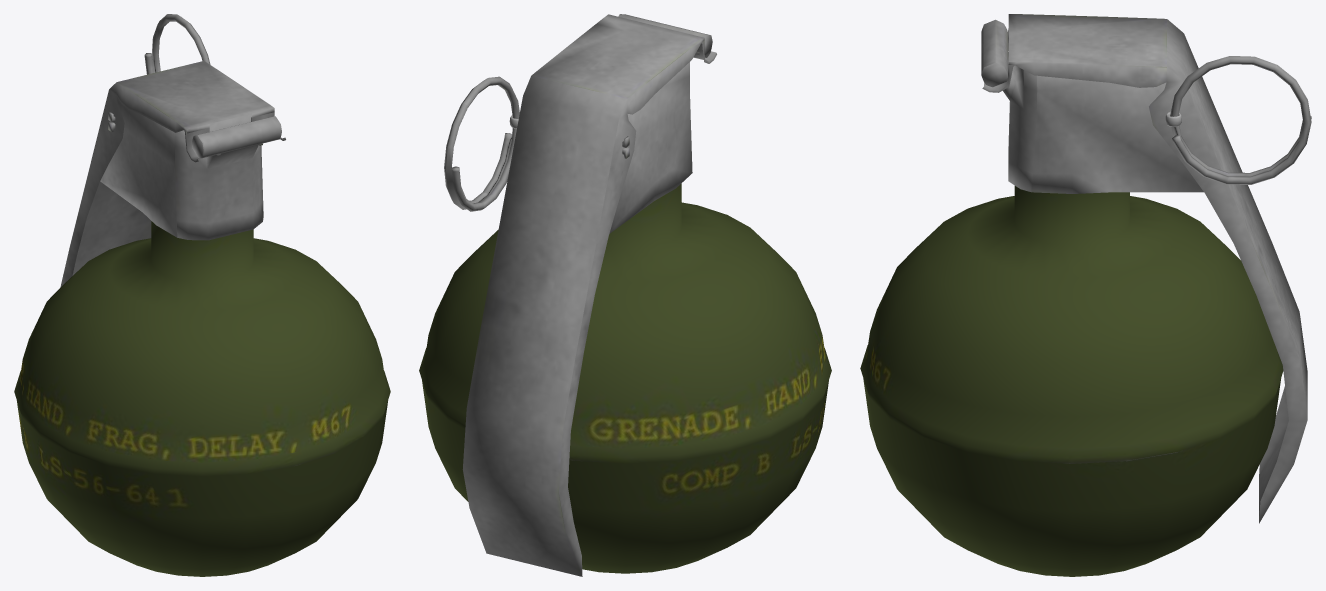
Rendered from Grenade_M67.fbx.
The picture shows the model from 3 angles, left to right: view 1: azimuth 30°, elevation 25°; view 2: azimuth 150°, elevation 25°; view 3: azimuth 270°, elevation 25°; orthographic projection. The views are drawn at different scales.
Parts seen in each view (by area): view 1: GunMesh; view 2: GunMesh; view 3: GunMesh.
Boxes of the visible parts, left/top/right/bottom form: GunMesh: left=14, top=14, right=390, bottom=576; GunMesh: left=419, top=14, right=831, bottom=576; GunMesh: left=860, top=14, right=1311, bottom=576.
Bounding box in the file's own units: 0.0725 × 0.1 × 0.0773.
1 material, 1 textured.
